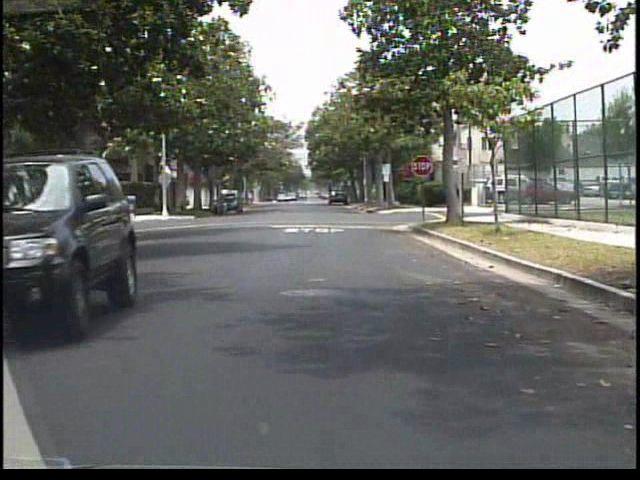person: (214, 178, 236, 220)
